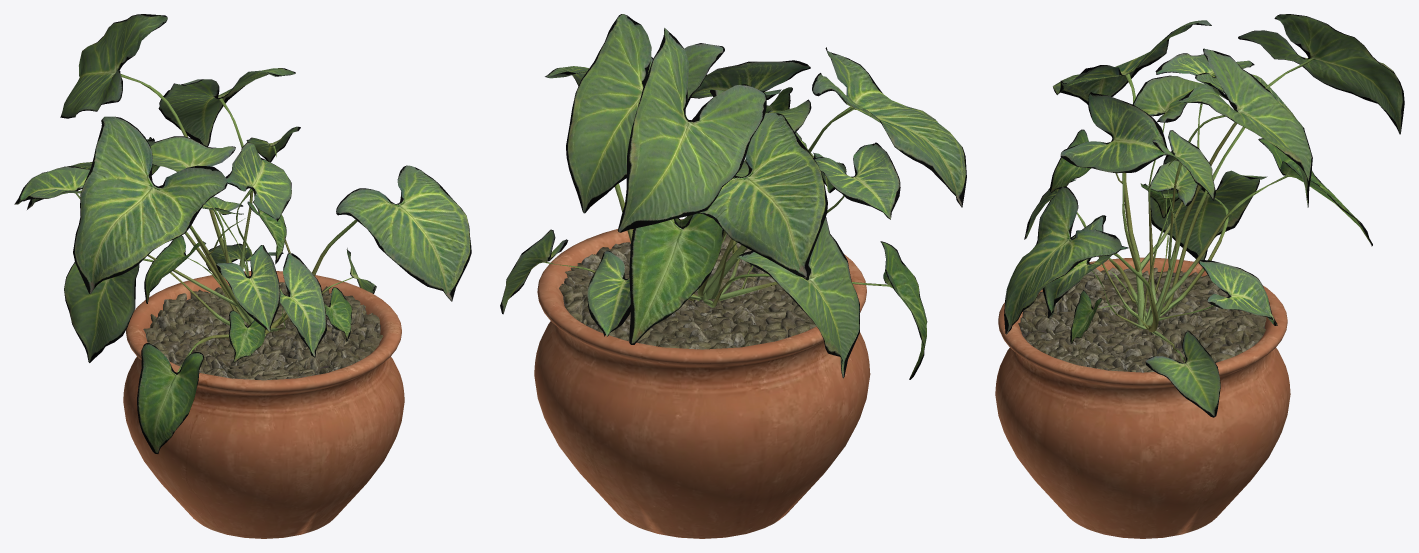
The model's file is potted_plant_02.glb.
3 views of the same model, side by side, from view 1: azimuth 30°, elevation 25°; view 2: azimuth 150°, elevation 25°; view 3: azimuth 270°, elevation 25° (orthographic). The views are drawn at different scales.
Visible parts, largest first — view 1: potted_plant_02_leaves, potted_plant_02_pot; view 2: potted_plant_02_leaves, potted_plant_02_pot; view 3: potted_plant_02_pot, potted_plant_02_leaves.
Boxes of the visible parts, box(x1,y1,x2,y2) form: potted_plant_02_leaves: box(14, 14, 471, 453); potted_plant_02_pot: box(123, 271, 404, 538); potted_plant_02_leaves: box(500, 14, 966, 379); potted_plant_02_pot: box(534, 219, 870, 538); potted_plant_02_pot: box(995, 257, 1290, 538); potted_plant_02_leaves: box(1004, 14, 1404, 417).
Bounding box in the file's own units: 0.7009 × 0.8412 × 0.6574.
Materials: 2 (2 with a texture image).
